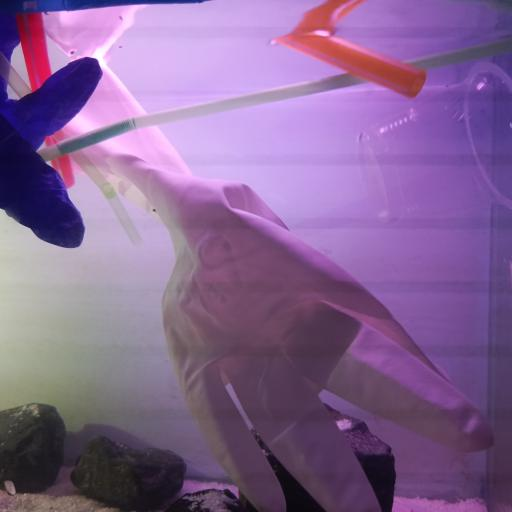glove: (57, 59, 495, 512), (0, 0, 206, 250)
plastic_cup: (354, 58, 512, 224)
plastic_straw: (37, 37, 512, 162), (0, 53, 143, 249), (16, 12, 75, 189), (273, 32, 427, 98)
